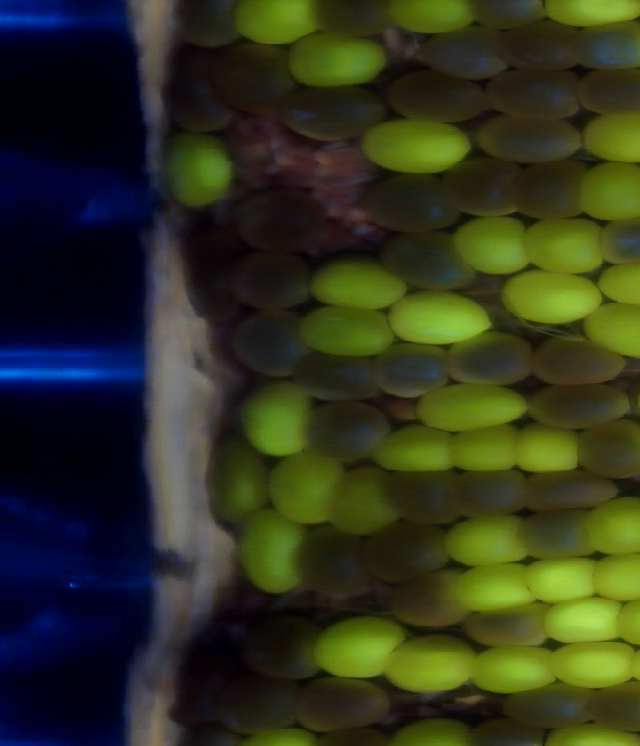fluorescent: (156, 122, 244, 214), (232, 375, 319, 468), (352, 114, 482, 176), (309, 611, 409, 691), (282, 25, 393, 96), (230, 503, 309, 602), (410, 376, 536, 438), (383, 282, 499, 349), (377, 627, 482, 699), (303, 248, 419, 313), (517, 211, 617, 284), (201, 431, 271, 535), (264, 444, 342, 536), (294, 298, 404, 363), (496, 264, 609, 327), (321, 464, 408, 539), (449, 211, 538, 279), (462, 642, 566, 699), (439, 509, 533, 572), (367, 416, 464, 476), (448, 559, 544, 619), (441, 418, 529, 482), (534, 592, 632, 649), (543, 635, 640, 691), (228, 1, 324, 55), (569, 152, 640, 225), (518, 552, 607, 605), (509, 422, 587, 481), (386, 1, 484, 44), (579, 493, 640, 562), (576, 298, 640, 363), (576, 107, 640, 166), (531, 1, 640, 34), (587, 546, 640, 604), (593, 256, 640, 312)
nonfluorescent: (171, 213, 250, 334), (163, 622, 241, 733), (374, 62, 500, 129), (373, 223, 481, 299), (271, 83, 397, 147), (212, 36, 302, 125), (228, 184, 341, 254), (158, 44, 241, 138), (354, 515, 457, 588), (290, 519, 377, 603), (287, 673, 401, 737), (348, 169, 462, 233), (441, 326, 546, 395), (520, 377, 640, 437), (524, 331, 637, 394), (223, 307, 319, 381), (468, 109, 584, 169), (479, 62, 584, 125), (503, 154, 593, 227), (230, 609, 323, 679), (224, 247, 320, 314), (303, 395, 397, 463), (381, 563, 469, 635), (417, 23, 517, 86), (377, 463, 468, 532), (291, 345, 392, 407), (437, 154, 526, 222), (494, 15, 586, 78), (214, 673, 304, 737), (461, 598, 560, 656), (371, 336, 453, 405), (518, 504, 607, 567), (514, 464, 626, 514), (446, 462, 533, 525), (498, 682, 601, 735), (570, 414, 640, 484), (562, 14, 640, 75), (168, 1, 244, 61), (304, 1, 399, 45), (574, 59, 640, 118), (462, 1, 552, 43), (586, 676, 640, 737), (591, 211, 640, 268)
